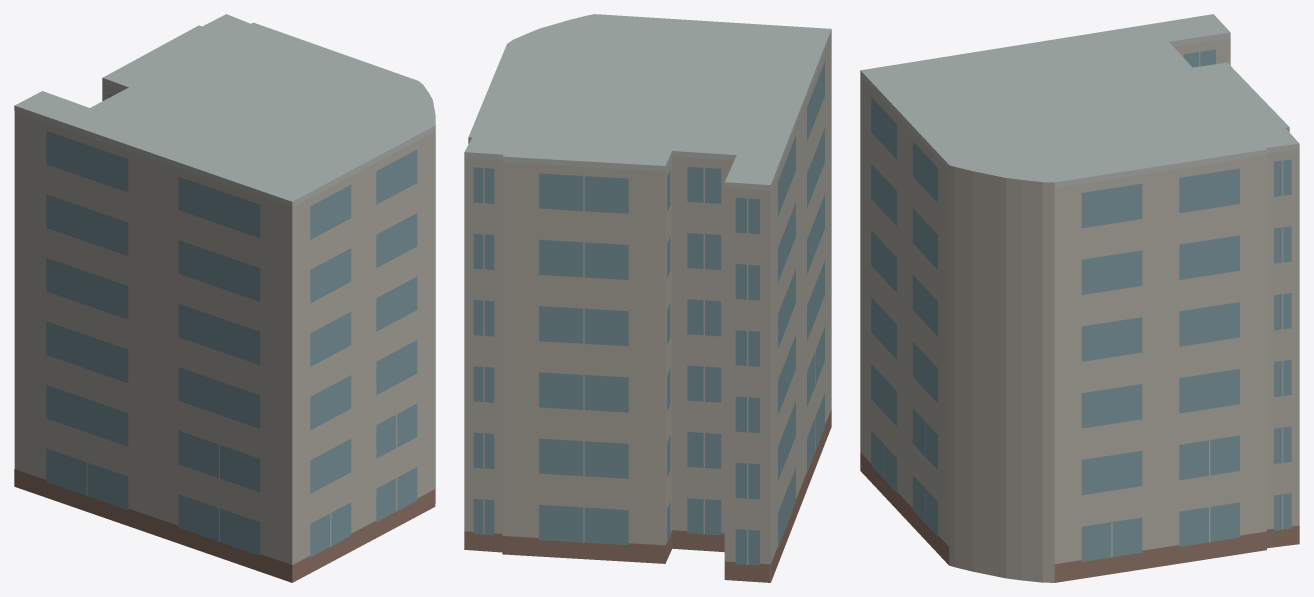
The model's file is survey-upis-32838227.glb.
3 views of the same model, side by side, from view 1: azimuth 30°, elevation 25°; view 2: azimuth 150°, elevation 25°; view 3: azimuth 270°, elevation 25° (orthographic). The views are drawn at different scales.
Visible parts, largest first — view 1: survey-upis-32838227.tmp; view 2: survey-upis-32838227.tmp; view 3: survey-upis-32838227.tmp.
Part boxes in pixels (x1,y1,x2,y2): survey-upis-32838227.tmp: (14,14,435,582); survey-upis-32838227.tmp: (464,14,831,582); survey-upis-32838227.tmp: (860,14,1299,582).
Bounding box in the file's own units: 15.34 × 17 × 16.9.
